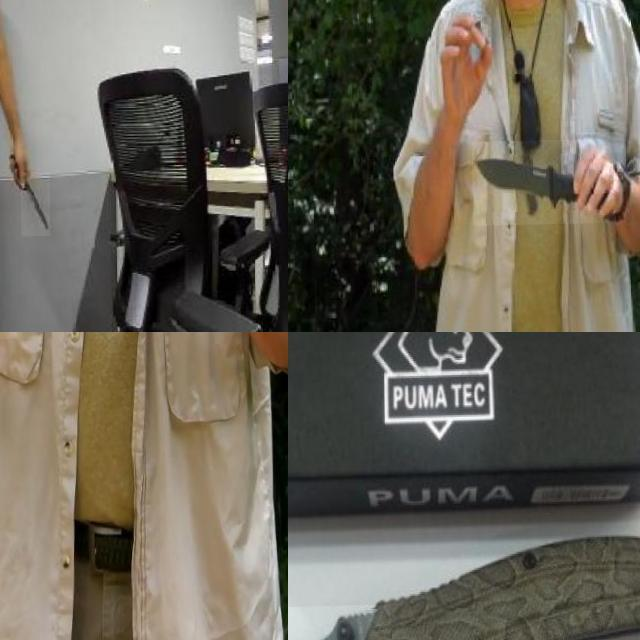-: (67, 332, 239, 437), (470, 141, 614, 227), (0, 332, 51, 448), (19, 173, 49, 238)
